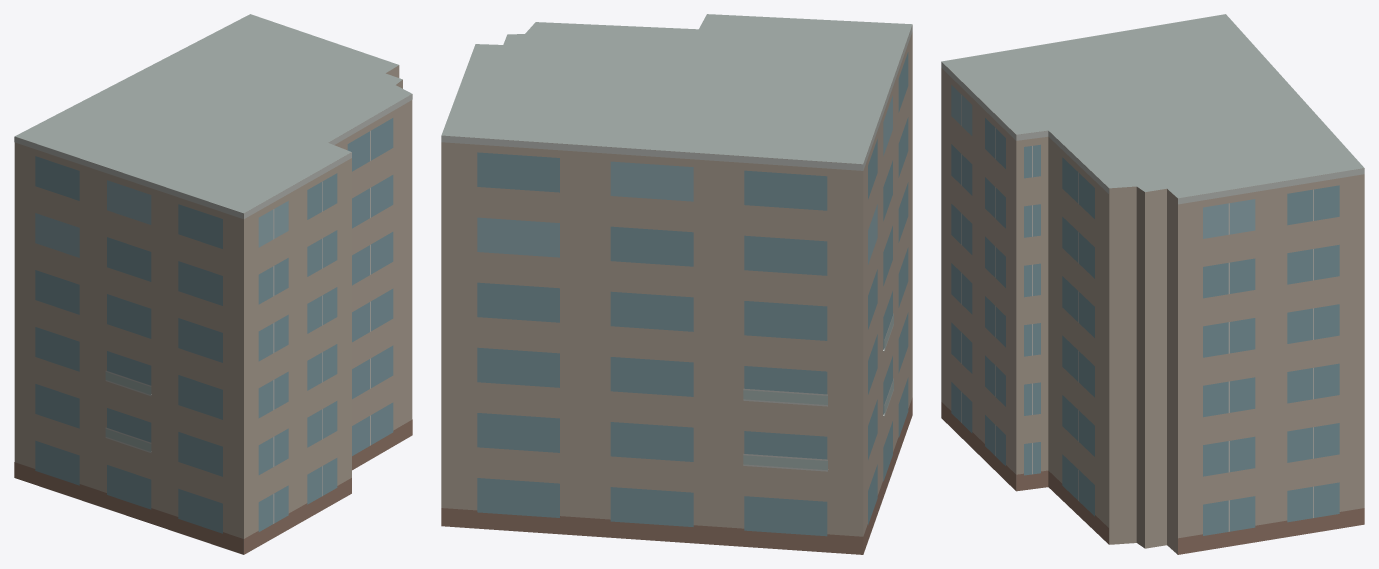
Rendered from survey-upis-32848829.glb.
The picture shows the model from 3 angles, left to right: view 1: azimuth 30°, elevation 25°; view 2: azimuth 150°, elevation 25°; view 3: azimuth 270°, elevation 25°; orthographic projection. The views are drawn at different scales.
Visible parts, largest first — view 1: survey-upis-32848829.tmp; view 2: survey-upis-32848829.tmp; view 3: survey-upis-32848829.tmp.
Part boxes in pixels (<box>): survey-upis-32848829.tmp: <box>14,14,412,554</box>; survey-upis-32848829.tmp: <box>441,14,912,554</box>; survey-upis-32848829.tmp: <box>941,14,1364,554</box>.
Bounding box in the file's own units: 15.76 × 14.2 × 15.29.
